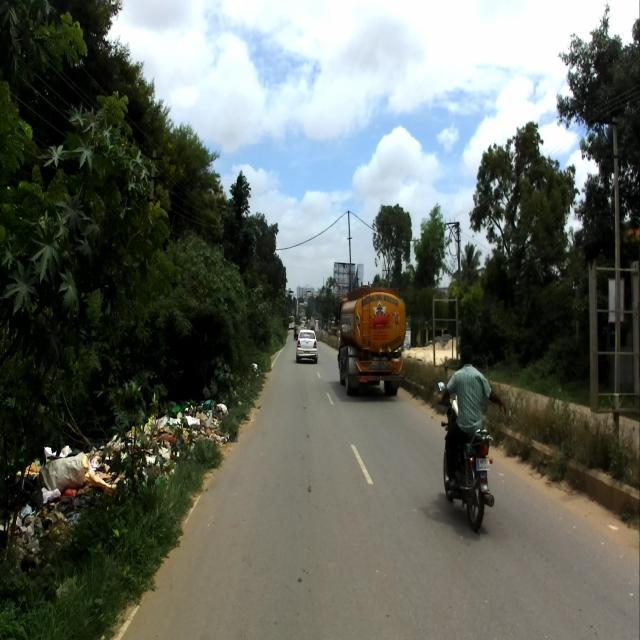motorcycle_Hero: (437, 381, 494, 532)
truck: (337, 284, 407, 402)
